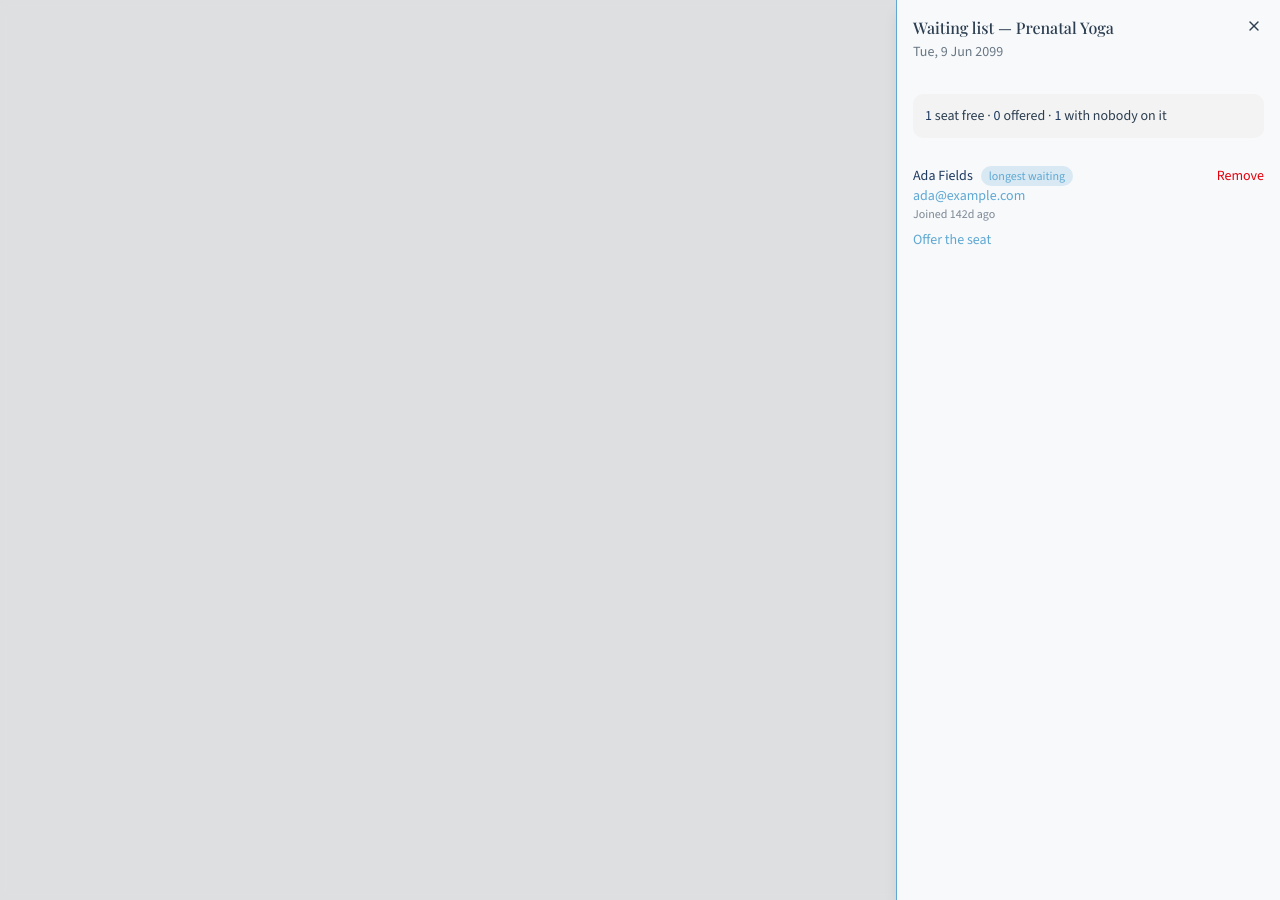
Test: WaitlistPanel › says why someone could not be removed
Click the button "Remove" at (1240, 176), box [1217,166,1264,186]
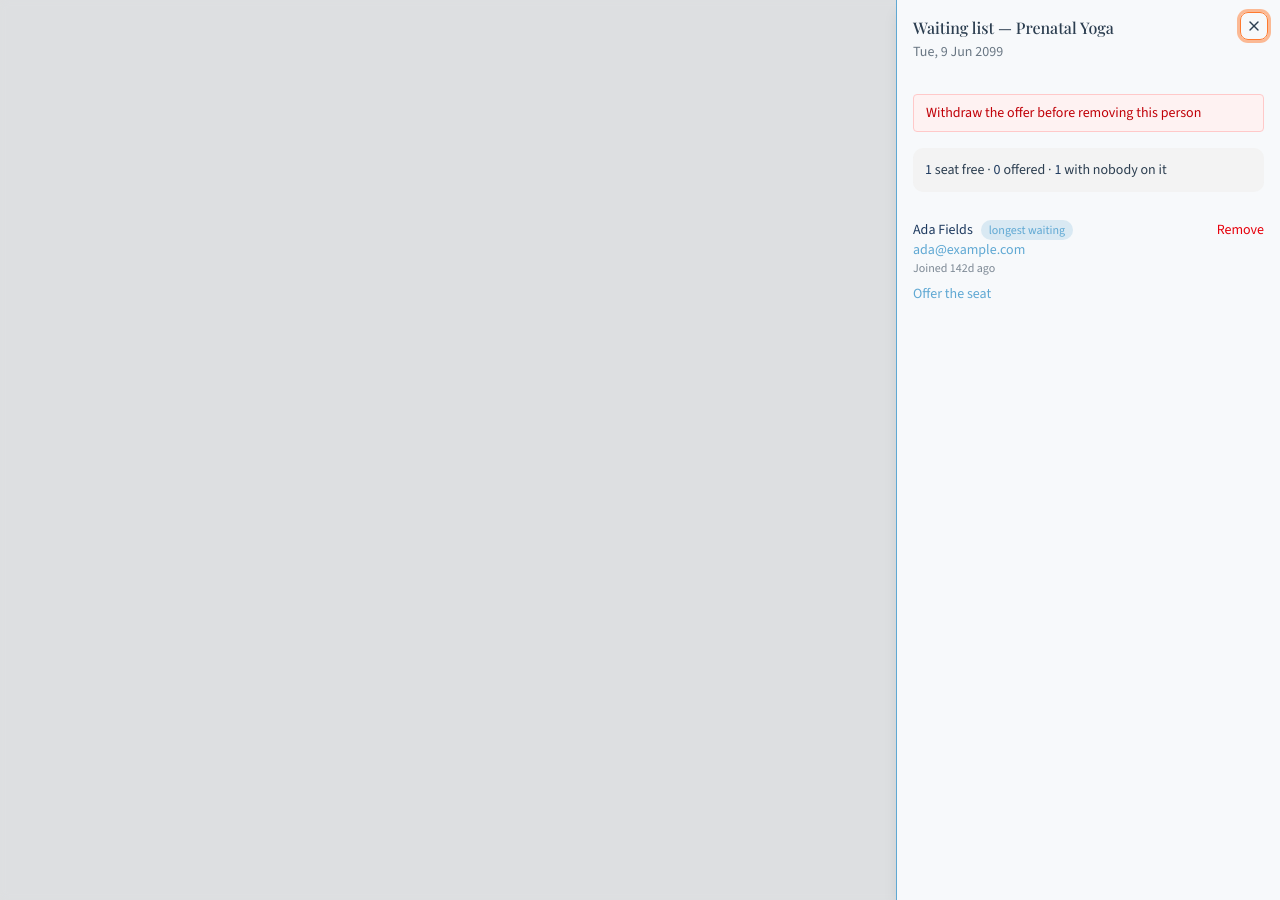
Result: the message reads "Withdraw the offer before removing this person" at [926,103,1201,122]
